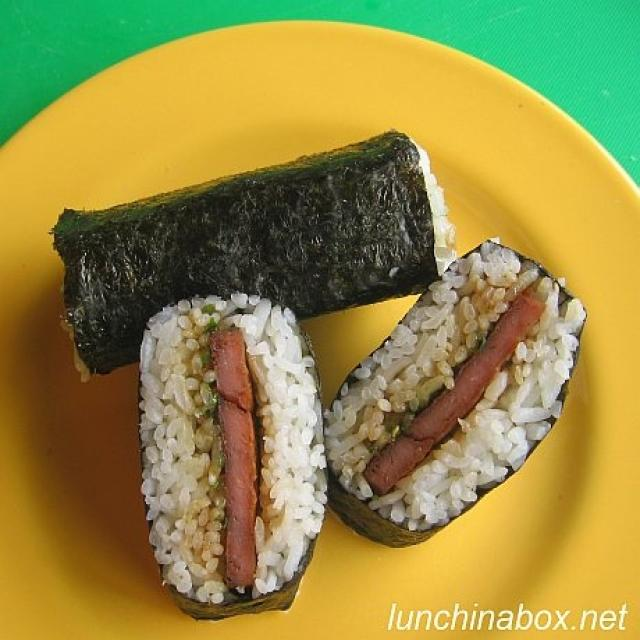寿司卷物: (25, 98, 596, 624)
